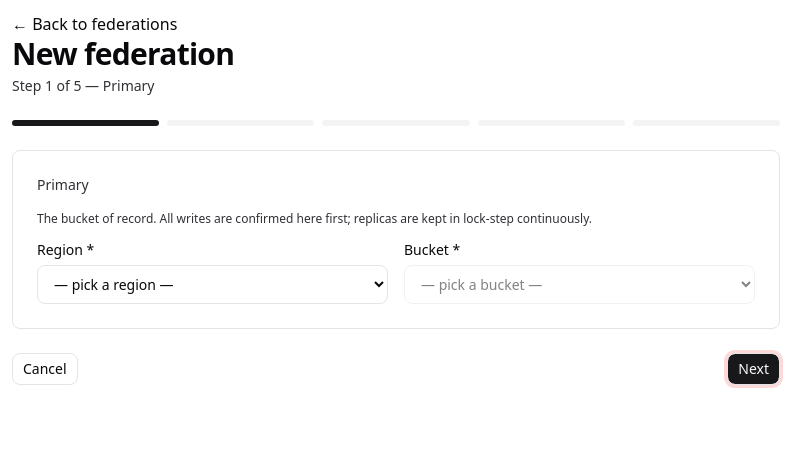
it: NewFederationPage (/files/federated-buckets/new) › renders Step 1 (Primary) on mount and surfaces inline error when Next is clicked blank
This screenshot has width=800, height=467.
Expected: the text "Step 1 of 5 — Primary" is shown, [12, 76, 154, 95]
Click the button "Next" at (754, 369), box [727, 353, 780, 385]
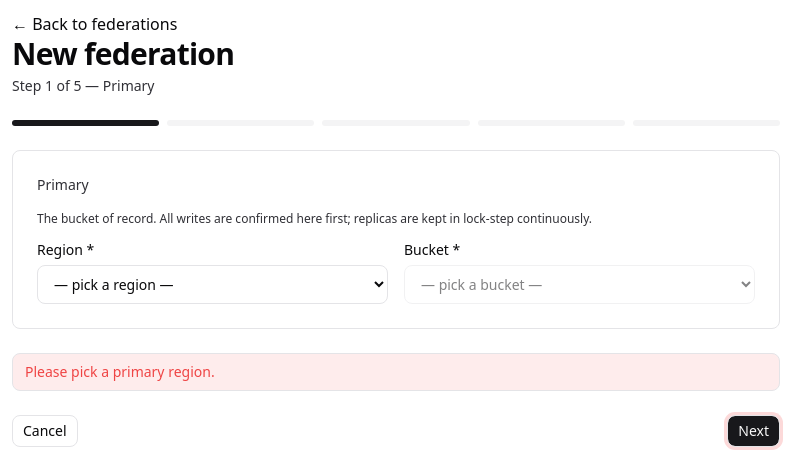
Expected: the text "Step 1 of 5 — Primary" is shown, [12, 76, 154, 95]
Expected: the message with test id "step-error" shows "primary region", [25, 362, 215, 381]
Select "home" in the dropdown labelled "Region *" at (212, 284), box [37, 265, 388, 304]
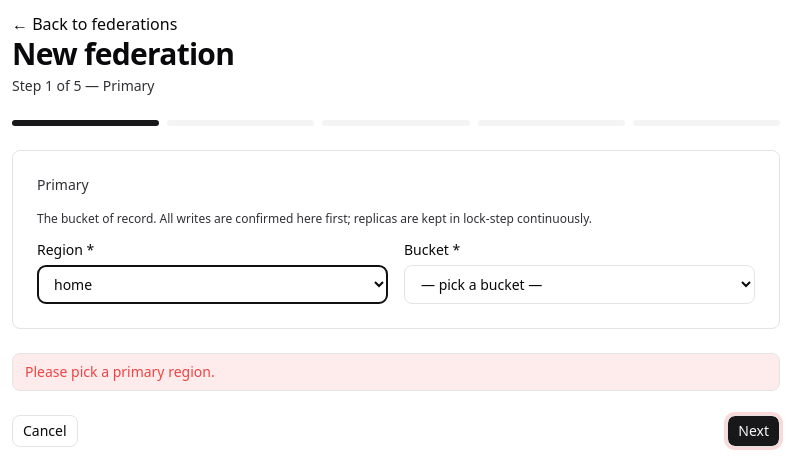
Click the button "Next" at (754, 431), box [727, 415, 780, 447]
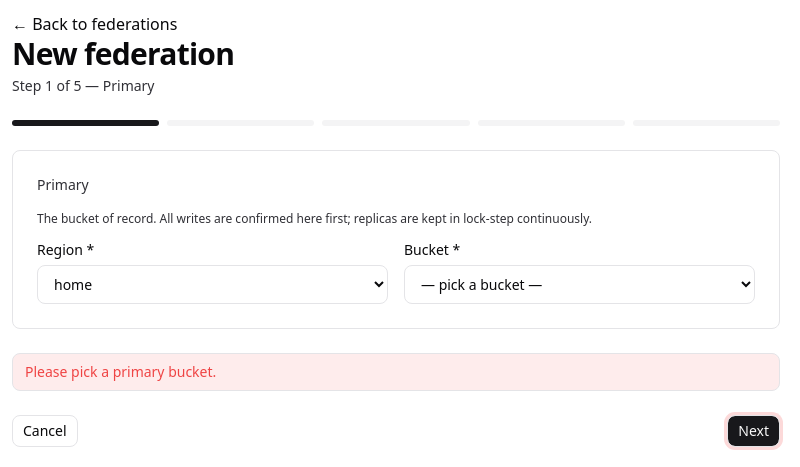
Expected: the text "Step 1 of 5 — Primary" is shown, [12, 76, 154, 95]
Expected: the message with test id "step-error" shows "primary bucket", [25, 362, 216, 381]
Select "photos" in the dropdown labelled "Bucket *" at (580, 284), box [404, 265, 755, 304]
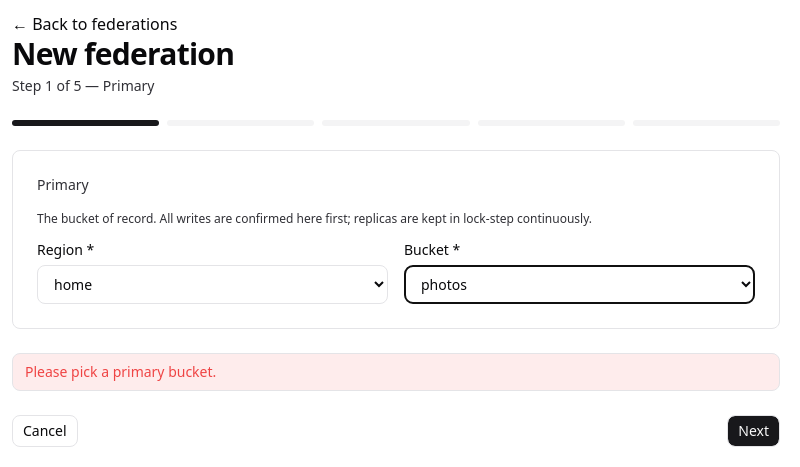
Click the button "Next" at (754, 431), box [727, 415, 780, 447]
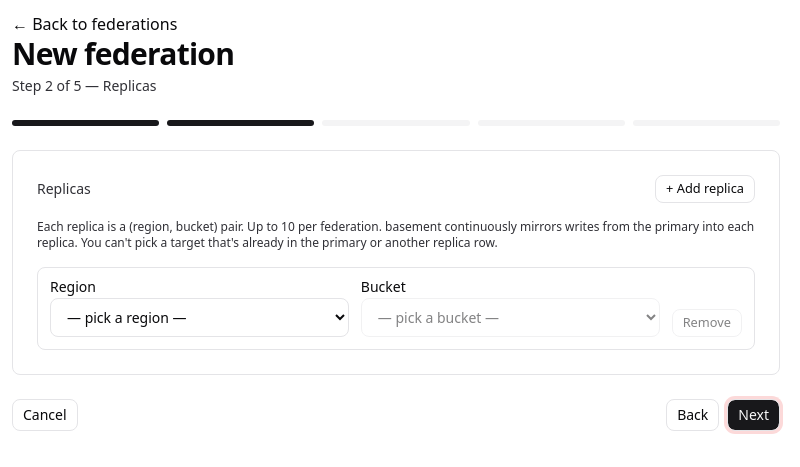
Expected: the text "Step 2 of 5 — Replicas" is shown, [12, 76, 156, 95]
